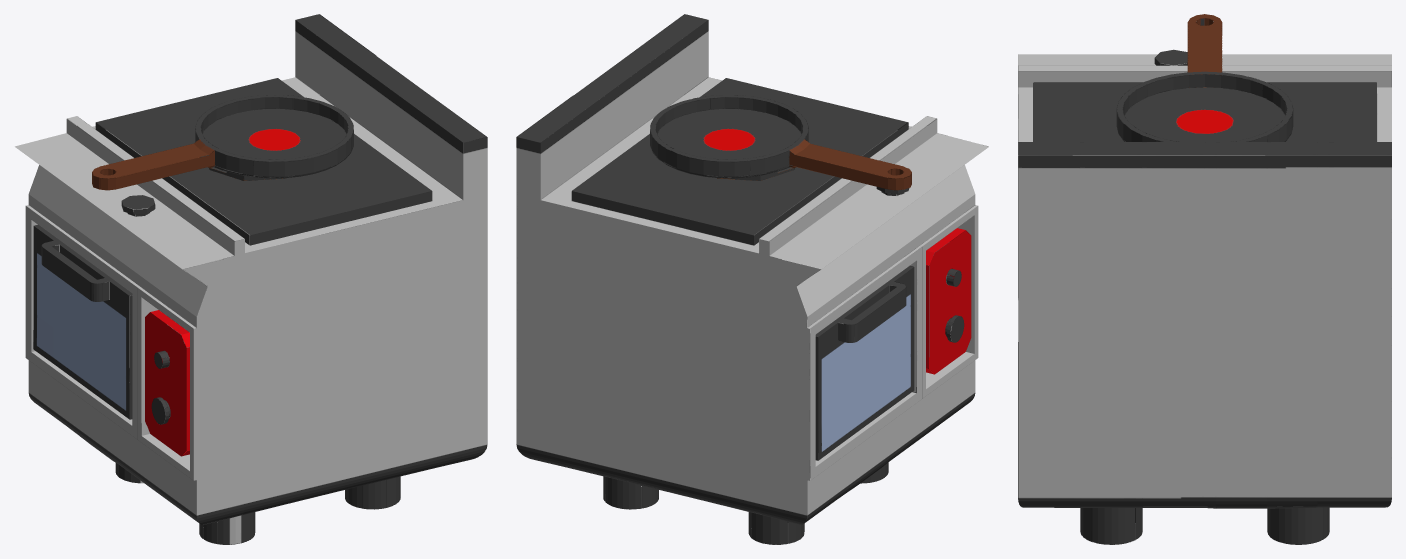
Rendered from Stove_Station.fbx.
3 renders of one model, left to right at view 1: azimuth 30°, elevation 25°; view 2: azimuth 150°, elevation 25°; view 3: azimuth 270°, elevation 25°, orthographic. The views are drawn at different scales.
Visible parts, largest first — view 1: Stove, Frying Pan; view 2: Stove, Frying Pan; view 3: Stove, Frying Pan.
Part boxes in pixels (x1=…): Stove: x1=15, y1=14, x2=487, y2=544; Frying Pan: x1=92, y1=95, x2=353, y2=190; Stove: x1=516, y1=14, x2=988, y2=544; Frying Pan: x1=650, y1=95, x2=911, y2=190; Stove: x1=1018, y1=49, x2=1391, y2=544; Frying Pan: x1=1116, y1=14, x2=1293, y2=141.
Bounding box in the file's own units: 213 × 246 × 200.
